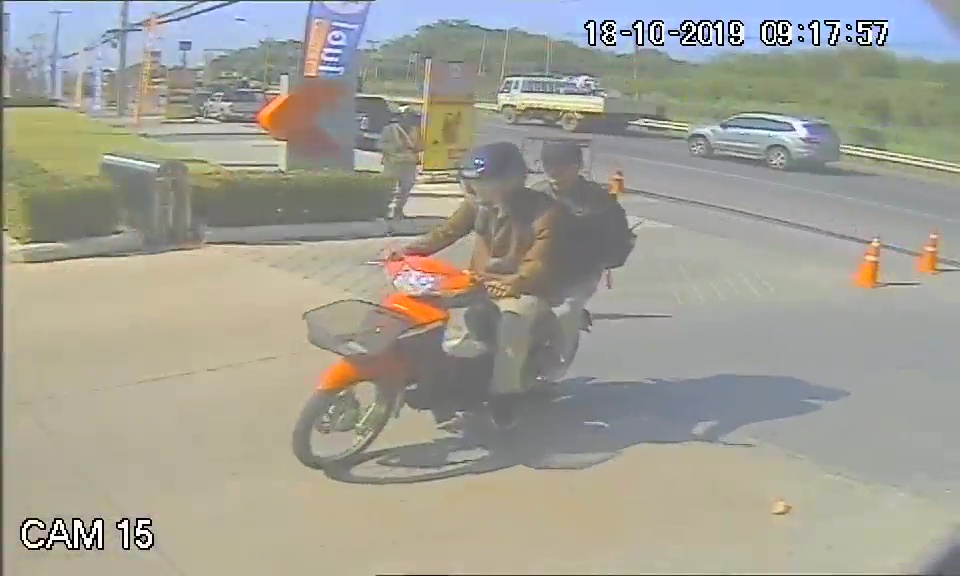motorcycle: (291, 245, 508, 475)
